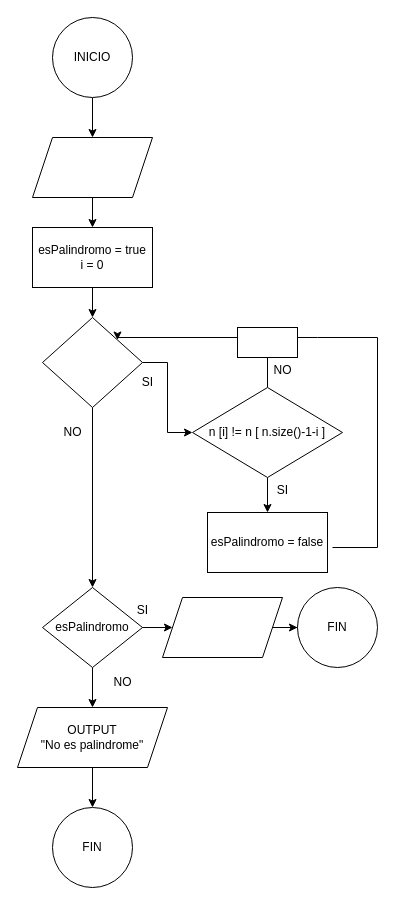
This 396x905 diagram has some shape labels left out. The centre of each missing label's shape, as x and y in pixels:
++i: the point at 267,342
INPUT n: the point at 92,167
n.size() >= i: the point at 92,362
OUTPUT "Es palindrome": the point at 222,627
